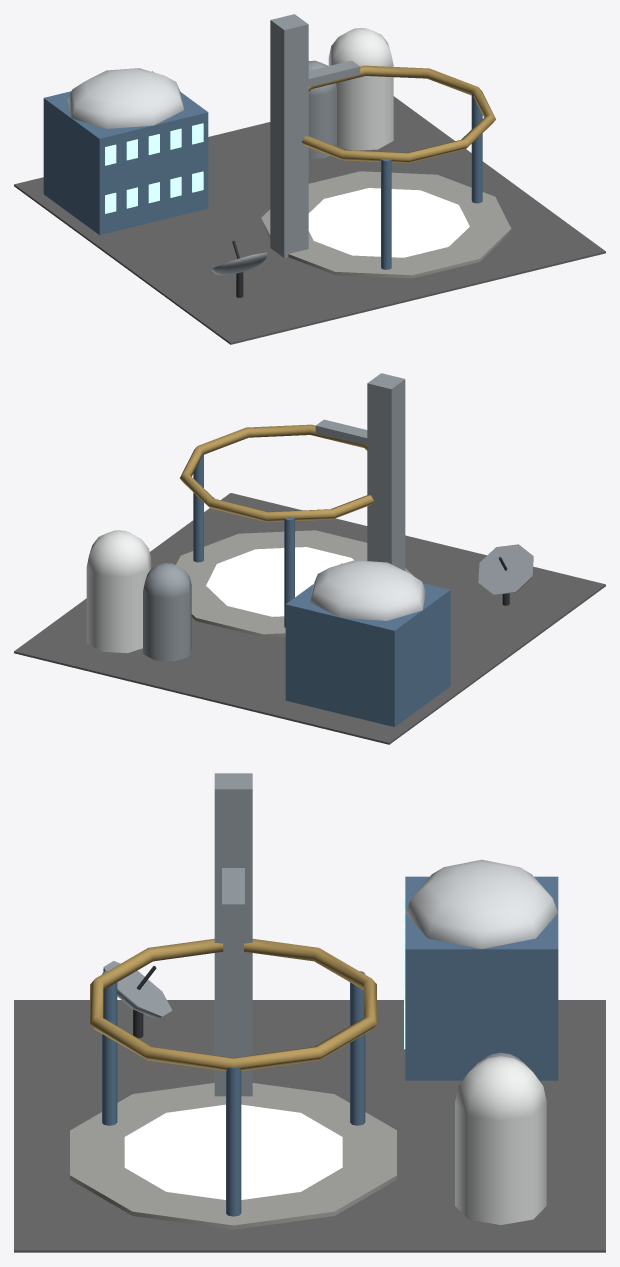
Rendered from bld_special_spaceport_a10_lod1.glb.
3 renders of one model, top to bottom at view 1: azimuth 30°, elevation 25°; view 2: azimuth 150°, elevation 25°; view 3: azimuth 270°, elevation 25°, orthographic. The views are drawn at different scales.
Visible parts, largest first — view 1: body, gantry, antenna; view 2: body, gantry, antenna; view 3: body, gantry, antenna.
Boxes of the visible parts, bbox=[...] form: body: bbox=[14, 28, 605, 344]; gantry: bbox=[270, 14, 360, 258]; antenna: bbox=[212, 240, 267, 297]; body: bbox=[14, 424, 605, 744]; gantry: bbox=[315, 373, 405, 570]; antenna: bbox=[478, 544, 533, 605]; body: bbox=[14, 859, 605, 1252]; gantry: bbox=[214, 773, 252, 1096]; antenna: bbox=[103, 961, 172, 1038].
Bounding box in the file's own units: 31 × 18.15 × 31.
